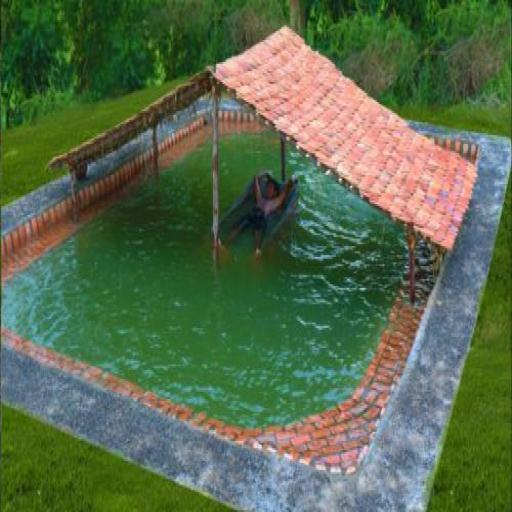swimming: (217, 168, 297, 266)
